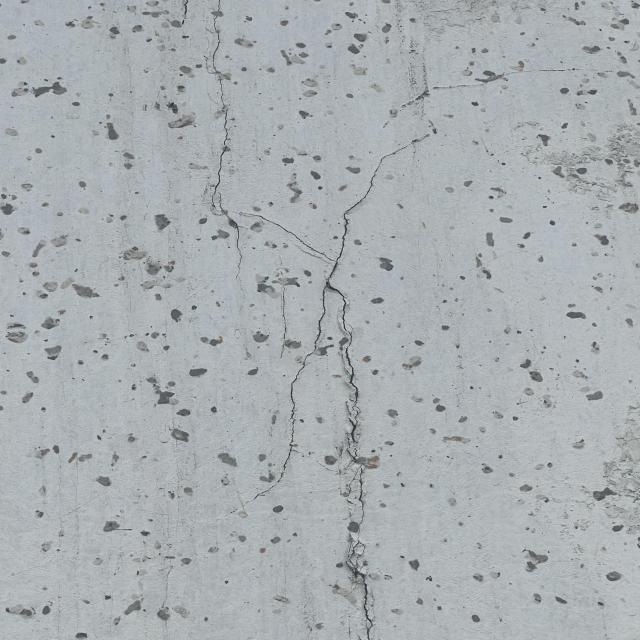crack: (180, 9, 445, 629)
